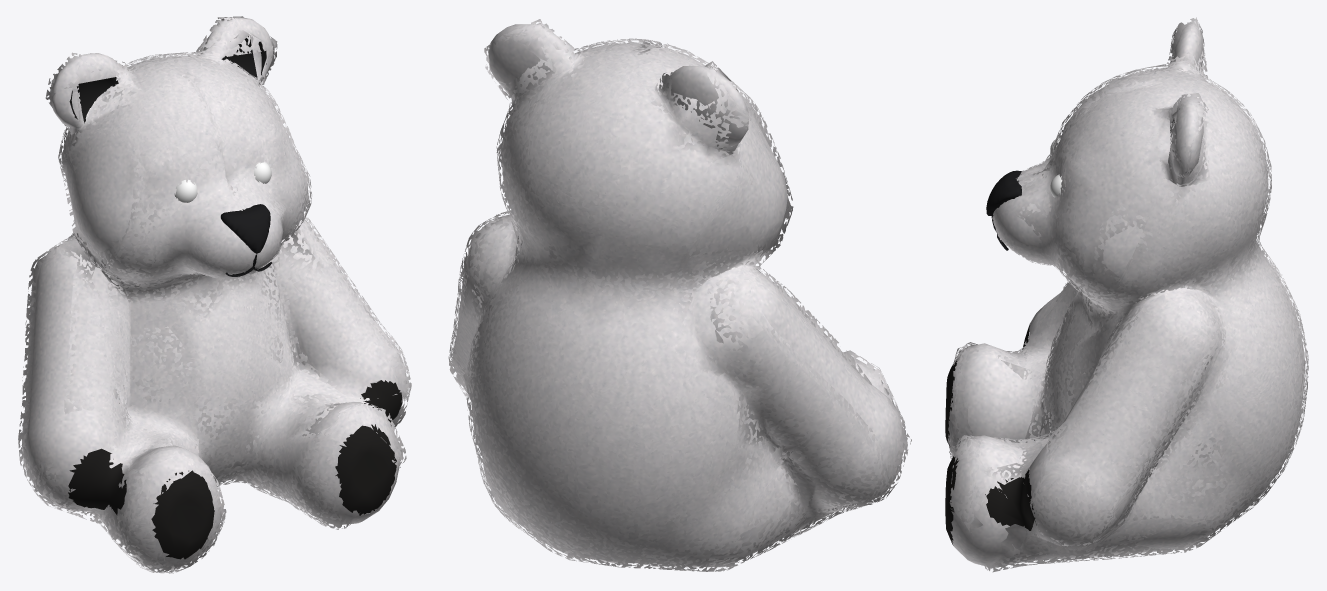
File: plush_black.glb
3 views of the same model, side by side, from view 1: azimuth 30°, elevation 25°; view 2: azimuth 150°, elevation 25°; view 3: azimuth 270°, elevation 25° (orthographic). The views are drawn at different scales.
Visible parts, largest first — view 1: Bear_Fur, Bear_Body, Nose, Eyes; view 2: Bear_Fur, Bear_Body; view 3: Bear_Fur, Bear_Body, Nose.
Boxes of the visible parts, x1=… form: Bear_Fur: x1=18, y1=16, x2=411, y2=573; Bear_Body: x1=24, y1=17, x2=403, y2=561; Nose: x1=220, y1=204, x2=270, y2=253; Eyes: x1=174, y1=162, x2=271, y2=202; Bear_Fur: x1=448, y1=19, x2=911, y2=571; Bear_Body: x1=457, y1=24, x2=902, y2=567; Bear_Fur: x1=948, y1=17, x2=1308, y2=572; Bear_Body: x1=945, y1=24, x2=1262, y2=565; Nose: x1=986, y1=170, x2=1021, y2=215.
Size of the model in its own units: 0.2823 by 0.3239 by 0.2293.
Materials: 9 (4 with a texture image).
